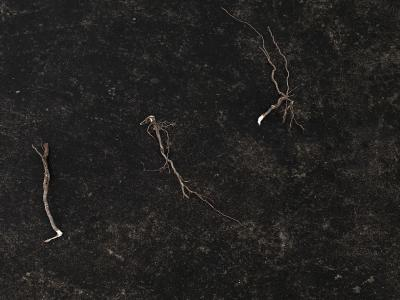Root: (140, 116, 225, 215), (253, 28, 304, 131), (32, 140, 62, 242), (222, 8, 253, 28)
